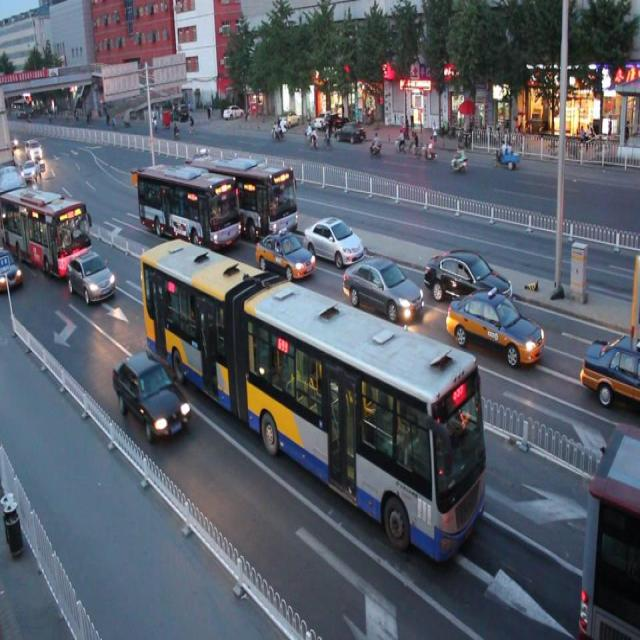car: (445, 290, 543, 368), (112, 350, 192, 444), (423, 248, 513, 314), (341, 258, 424, 324), (579, 331, 640, 406), (253, 226, 317, 282), (302, 217, 366, 269), (67, 251, 116, 306), (1, 246, 23, 296), (192, 147, 221, 173), (155, 166, 183, 191)
van: (139, 237, 485, 565), (582, 422, 640, 632), (190, 152, 298, 240), (137, 163, 241, 249), (0, 188, 90, 280)
